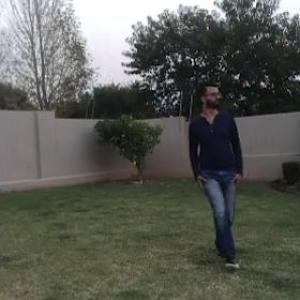follow: (185, 77, 250, 264)
